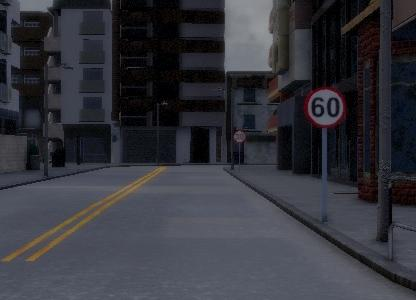Speed_60: (303, 83, 348, 131)
